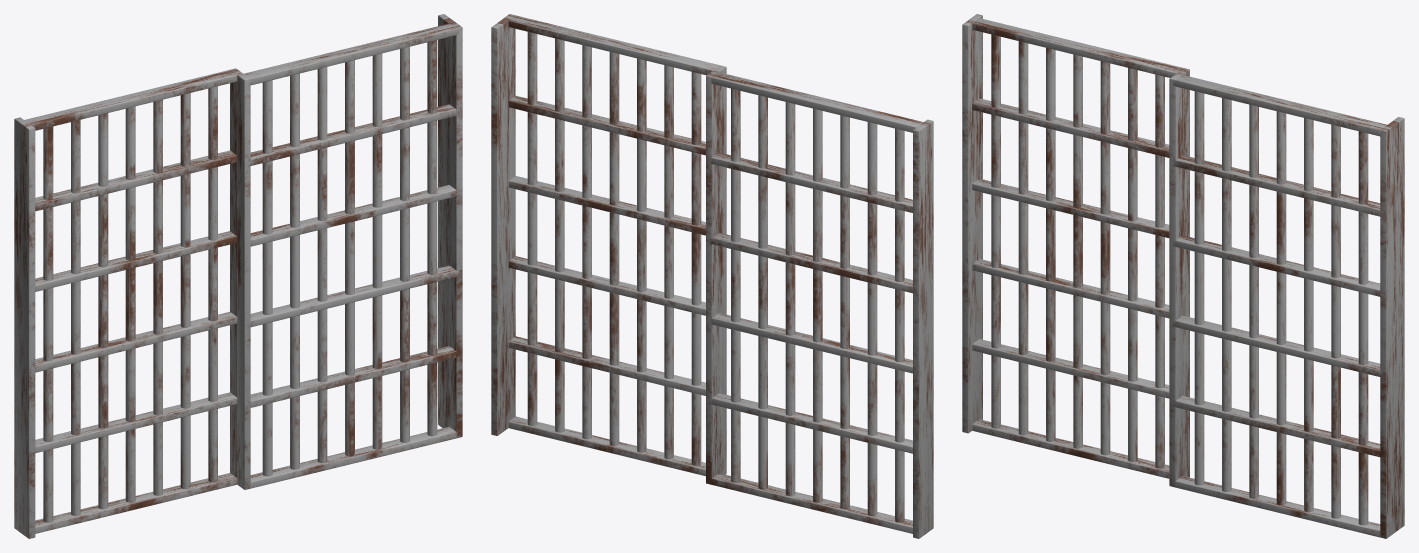
The model's file is prison-door.fbx.
3 renders of one model, left to right at view 1: azimuth 30°, elevation 25°; view 2: azimuth 150°, elevation 25°; view 3: azimuth 330°, elevation 25°, orthographic.
Visible parts, largest first — view 1: Door_APPLIED; view 2: Door_APPLIED; view 3: Door_APPLIED.
Boxes of the visible parts, left/top/right/bottom form: Door_APPLIED: left=14, top=14, right=462, bottom=538; Door_APPLIED: left=491, top=14, right=933, bottom=538; Door_APPLIED: left=962, top=14, right=1404, bottom=538.
Size of the model in its own units: 335 by 305 by 25.04.
1 material, 1 textured.
